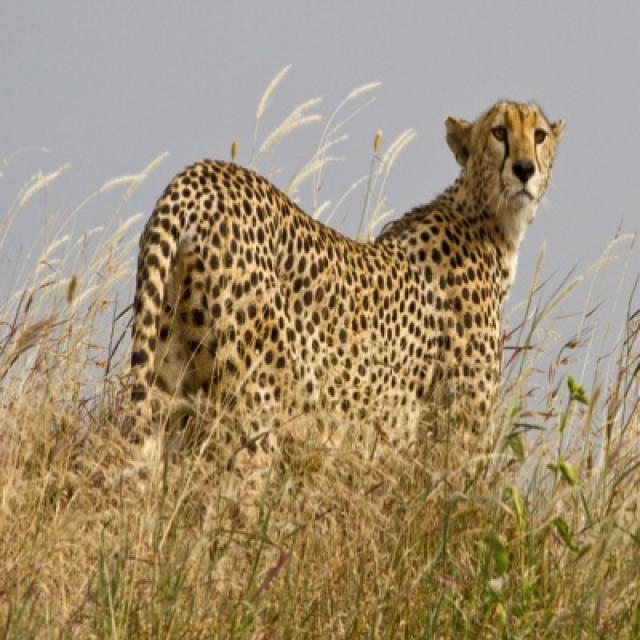Cheetah: (126, 101, 566, 446)
